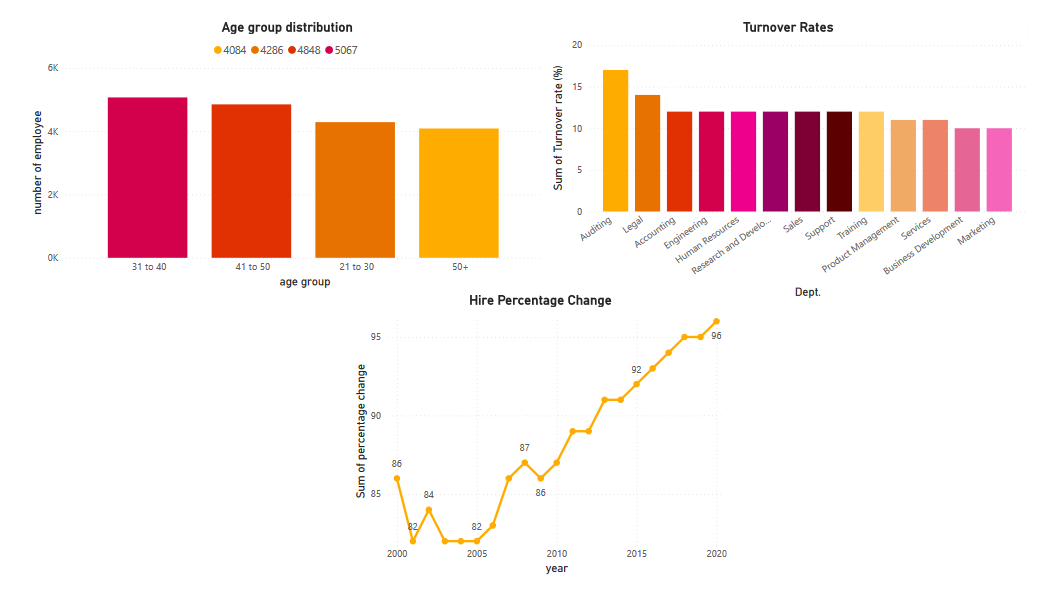

Layout of this report page (visuals, bound fields, positions):
{"tool":"powerbi","page":{"name":"Page 2","canvas":[1280,720],"ordinal":1},"visuals":[{"type":"columnChart","title":"Age group distribution","fields":{"Category":["age_distribution.Column1"],"Y":["Sum(age_distribution.Column2)"],"Series":["age_distribution.Column2"]},"box":[10.1,0,660.2,346],"z":0},{"type":"columnChart","title":"Turnover Rates","fields":{"Y":["Sum(turn_over_rates.Turnover rate (%))"],"Category":["turn_over_rates.Dept."],"Series":["turn_over_rates.Dept."]},"box":[670.2,0,609.8,359.5],"z":1},{"type":"lineChart","title":"Hire Percentage Change","fields":{"Category":["percentage_hire_change.year"],"Y":["Sum(percentage_hire_change.percentage change)"]},"box":[419.9,346,482.1,362.8],"z":2}]}

Visuals, with their boxes in screenshot pixels (x1, y1, x2, y2), scaled from the page's 1280x720 canvas onto the 1048x599 screenshot:
"Age group distribution" columnChart: locate(8, 0, 549, 288)
"Turnover Rates" columnChart: locate(549, 0, 1047, 299)
"Hire Percentage Change" lineChart: locate(344, 288, 739, 590)
